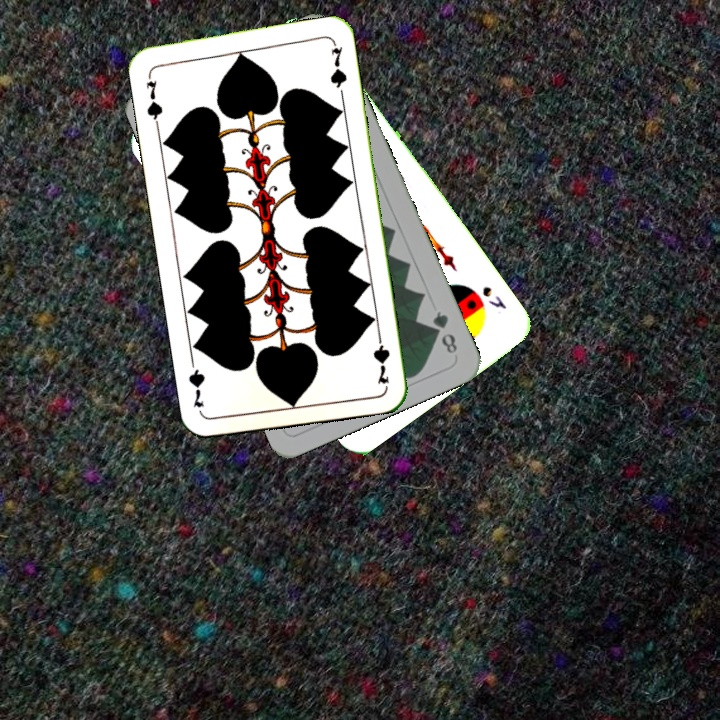G7: (369, 327, 393, 387), (142, 69, 166, 128)
G8: (428, 307, 460, 357)
SK: (478, 282, 509, 312)
